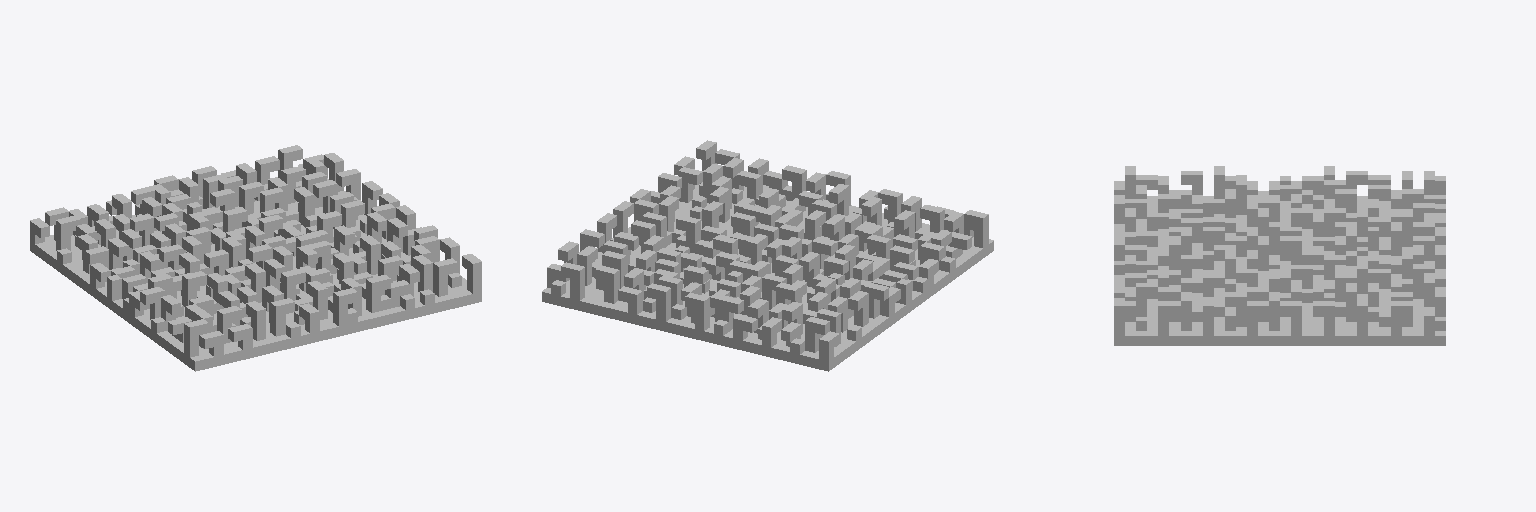
The model's file is sol vert.obj.
3 views of the same model, side by side, from view 1: azimuth 30°, elevation 25°; view 2: azimuth 150°, elevation 25°; view 3: azimuth 270°, elevation 25° (orthographic).
Visible parts, largest first — view 1: object 1; view 2: object 1; view 3: object 1.
Boxes of the visible parts, box(x1,y1,x2,y2) form: object 1: box(30, 145, 481, 371); object 1: box(542, 140, 993, 371); object 1: box(1114, 166, 1445, 345).
Bounding box in the file's own units: 3 × 0.4 × 3.